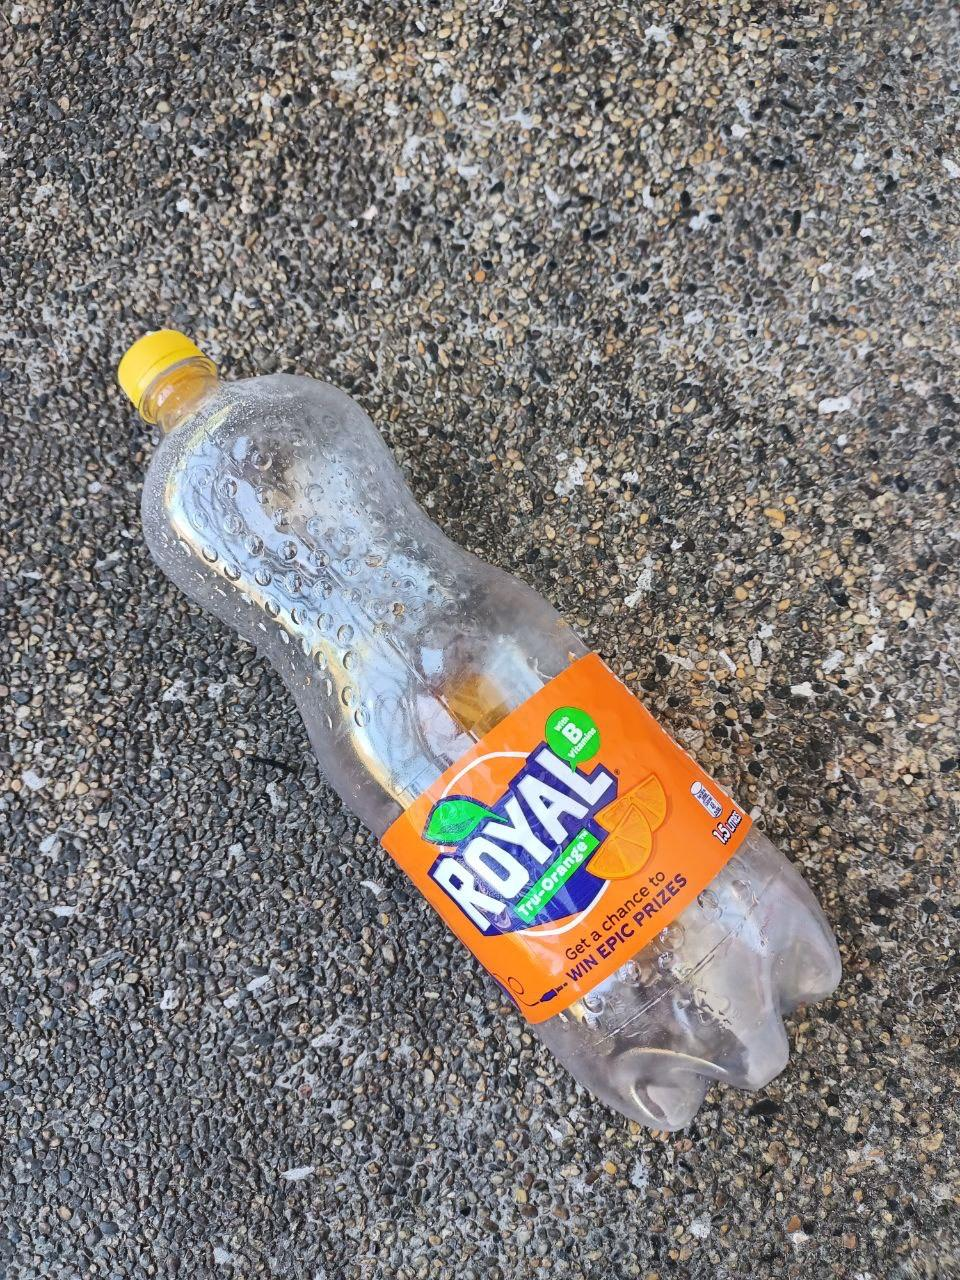plastic: (61, 299, 881, 1178)
